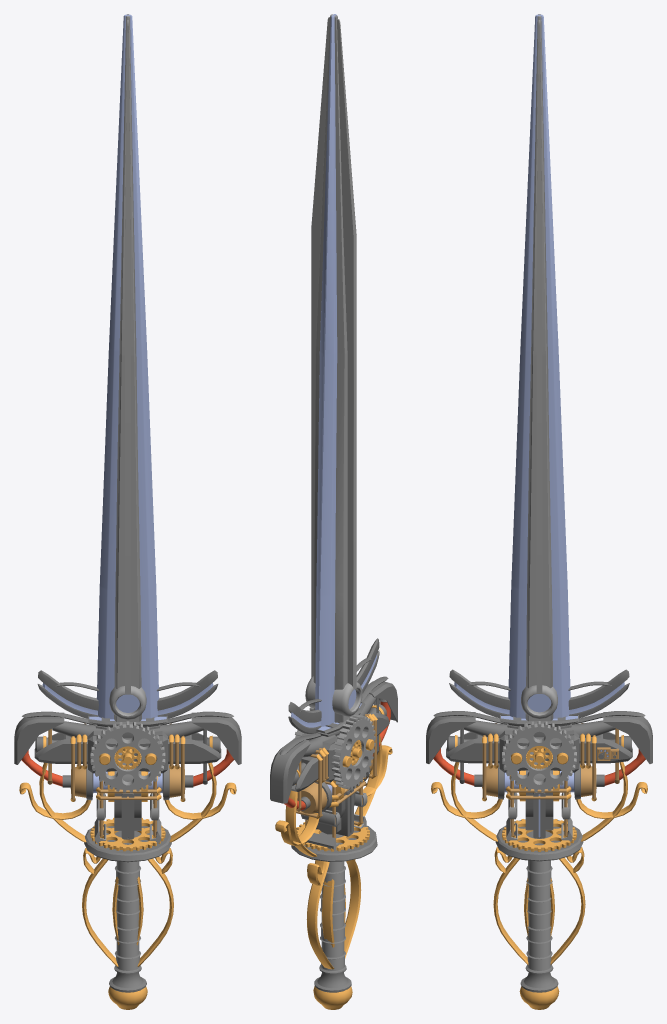
The model's file is Claymore.fbx.
The picture shows the model from 3 angles, left to right: view 1: azimuth 90°, elevation 25°; view 2: azimuth 150°, elevation 25°; view 3: azimuth 270°, elevation 25°; orthographic projection.
Visible parts, largest first — view 1: Sword; view 2: Sword; view 3: Sword.
Part boxes in pixels (x1=…): Sword: x1=14, y1=14, x2=241, y2=1009; Sword: x1=270, y1=14, x2=397, y2=1009; Sword: x1=426, y1=14, x2=652, y2=1009.
Size of the model in its own units: 133 by 1658 by 344.
